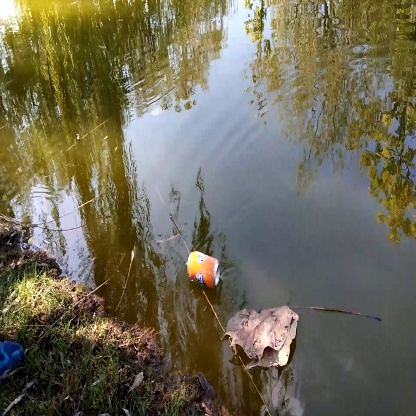bottle: (185, 245, 223, 293)
leaf: (226, 300, 303, 376)
